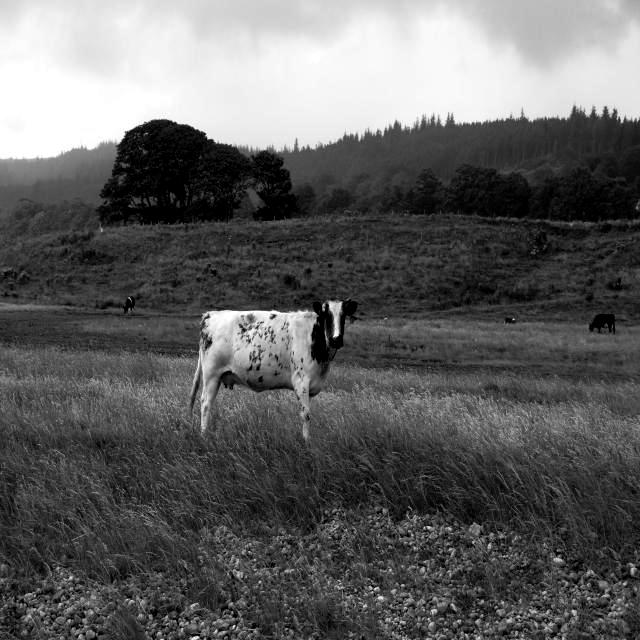COW: (190, 300, 356, 440)
